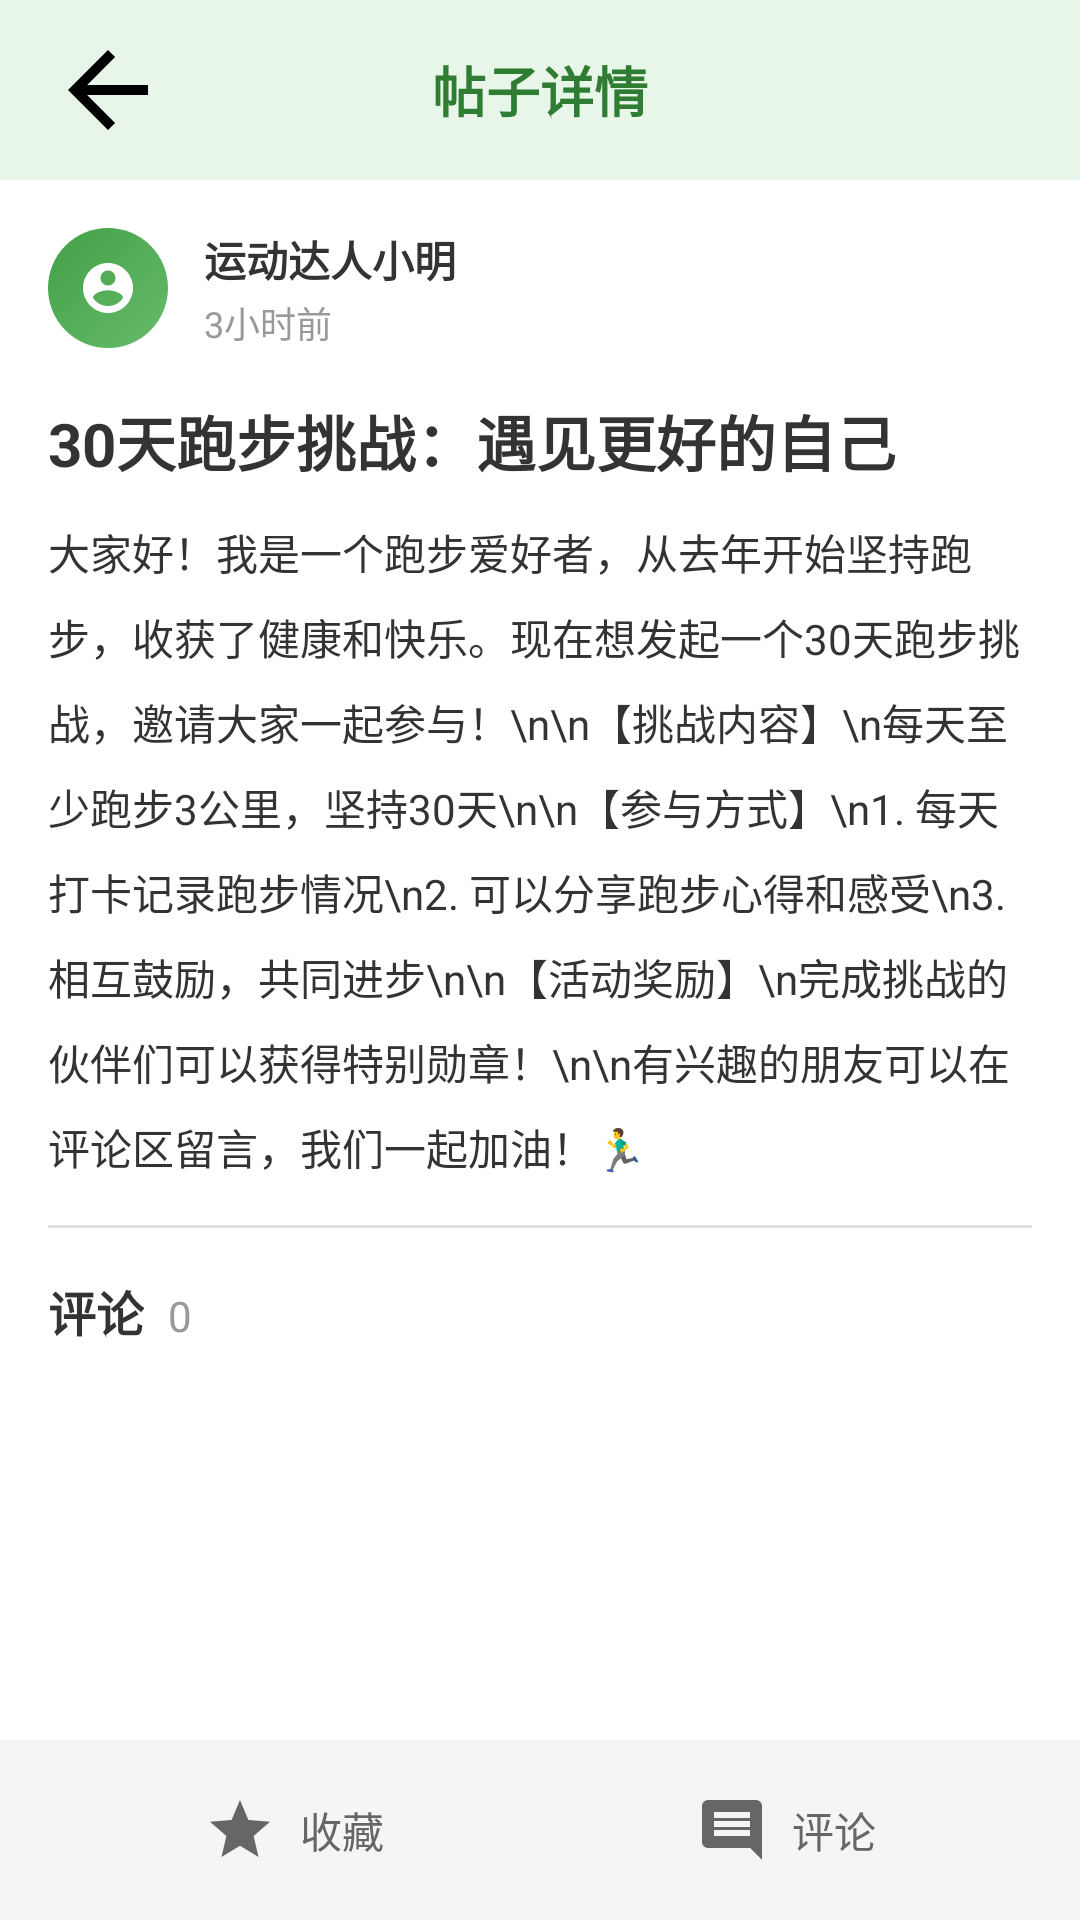

Where to tap for icons on this 1080x1920 app screen, as (x,y):
arrow back: (108,90)
